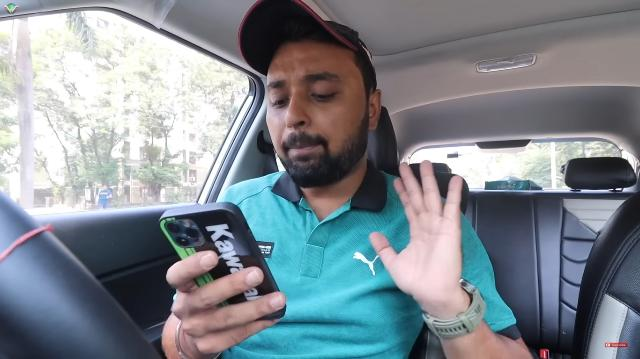no seatbelt: (178, 91, 452, 359)
